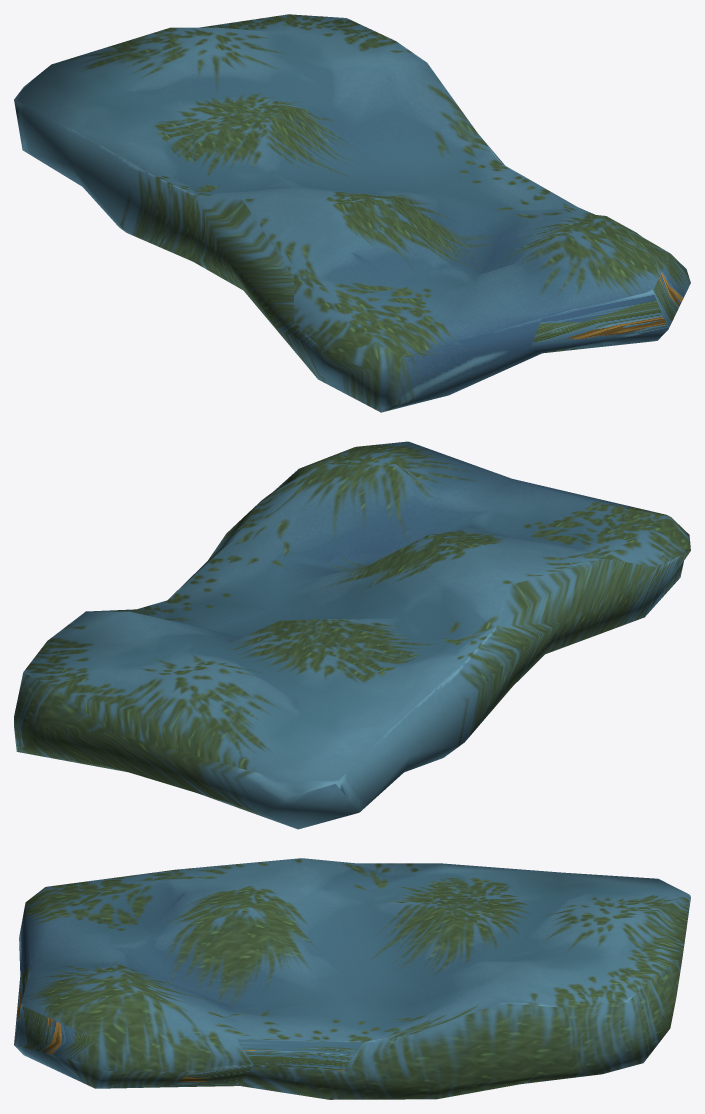
The model's file is Cliff_flat_collider.fbx.
The picture shows the model from 3 angles, top to bottom: view 1: azimuth 30°, elevation 25°; view 2: azimuth 150°, elevation 25°; view 3: azimuth 270°, elevation 25°; orthographic projection. The views are drawn at different scales.
Visible parts, largest first — view 1: Cliff_flat_collider; view 2: Cliff_flat_collider; view 3: Cliff_flat_collider.
Part boxes in pixels (bbox=[...]): Cliff_flat_collider: bbox=[14, 14, 690, 412]; Cliff_flat_collider: bbox=[14, 441, 690, 829]; Cliff_flat_collider: bbox=[14, 858, 690, 1099].
Bounding box in the file's own units: 565 × 188 × 969.
